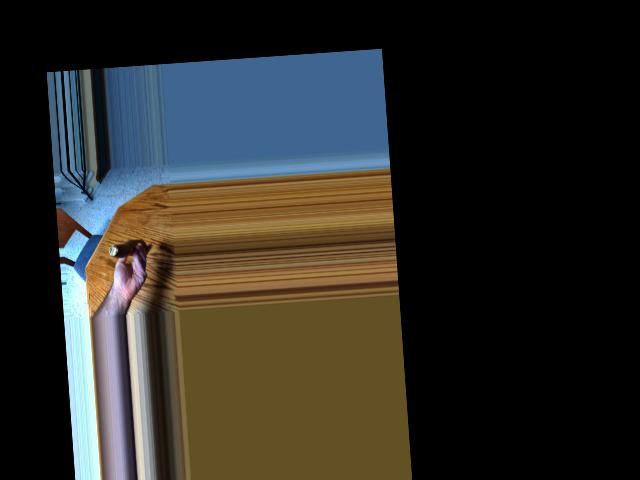sweet_potato: (112, 237, 147, 253)
